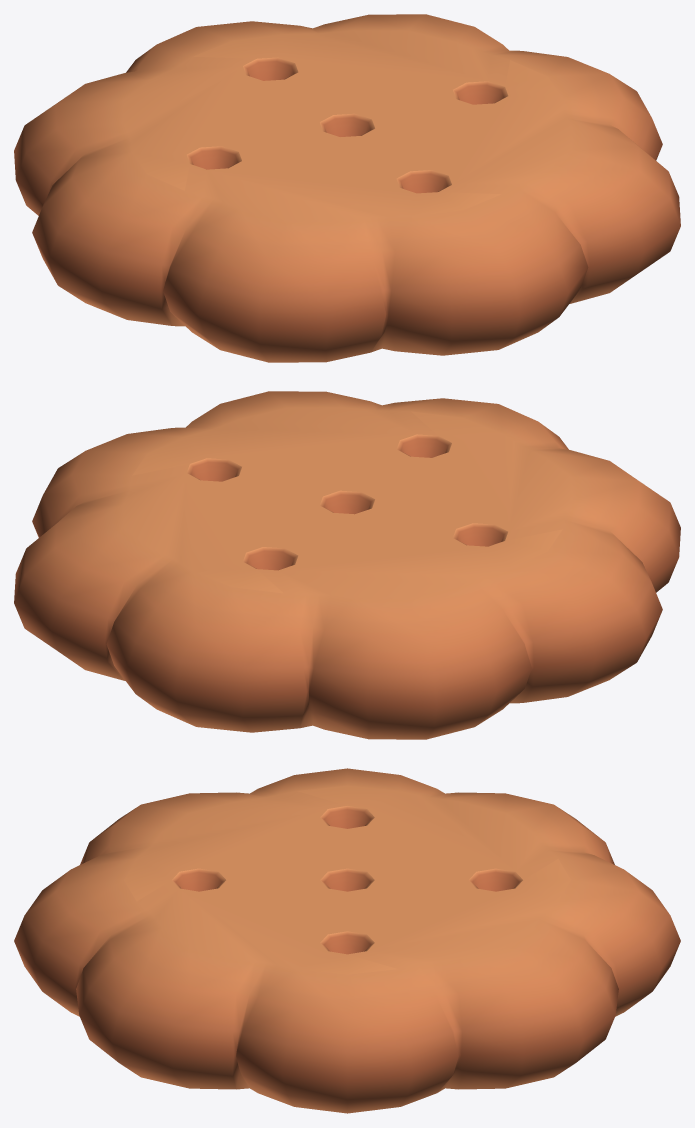
The model's file is Biscuits_V2_00.fbx.
The picture shows the model from 3 angles, top to bottom: view 1: azimuth 30°, elevation 25°; view 2: azimuth 150°, elevation 25°; view 3: azimuth 270°, elevation 25°; orthographic projection. The views are drawn at different scales.
Parts seen in each view (by area): view 1: Biscuits_V2_00; view 2: Biscuits_V2_00; view 3: Biscuits_V2_00.
Boxes of the visible parts, left/top/right/bottom form: Biscuits_V2_00: left=14, top=14, right=680, bottom=362; Biscuits_V2_00: left=14, top=391, right=680, bottom=739; Biscuits_V2_00: left=14, top=768, right=680, bottom=1113.
Bounding box in the file's own units: 28.65 × 5.77 × 28.65.
